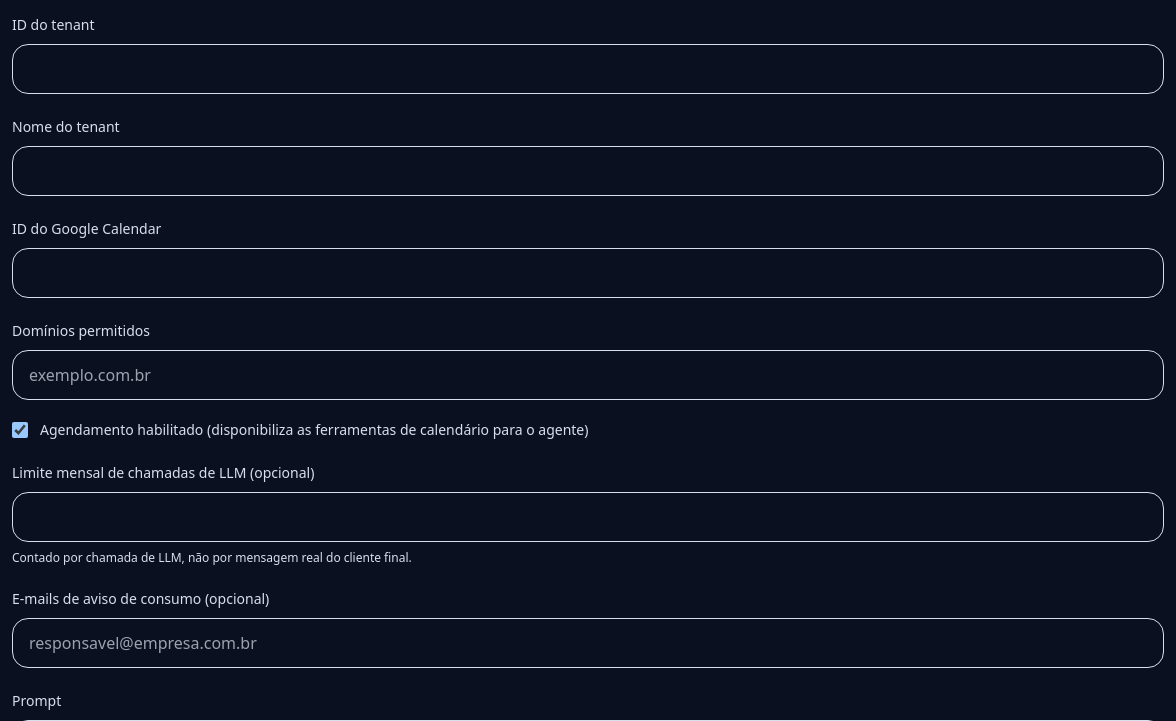
Test: TenantForm › EDI-63 — limite mensal e e-mails de notificação › shows an estimate hint next to the limit field once a value is entered
Type "1000" into the number field labelled "Limite mensal de chamadas de LLM (opcional)" at (588, 517), box [12, 492, 1164, 542]
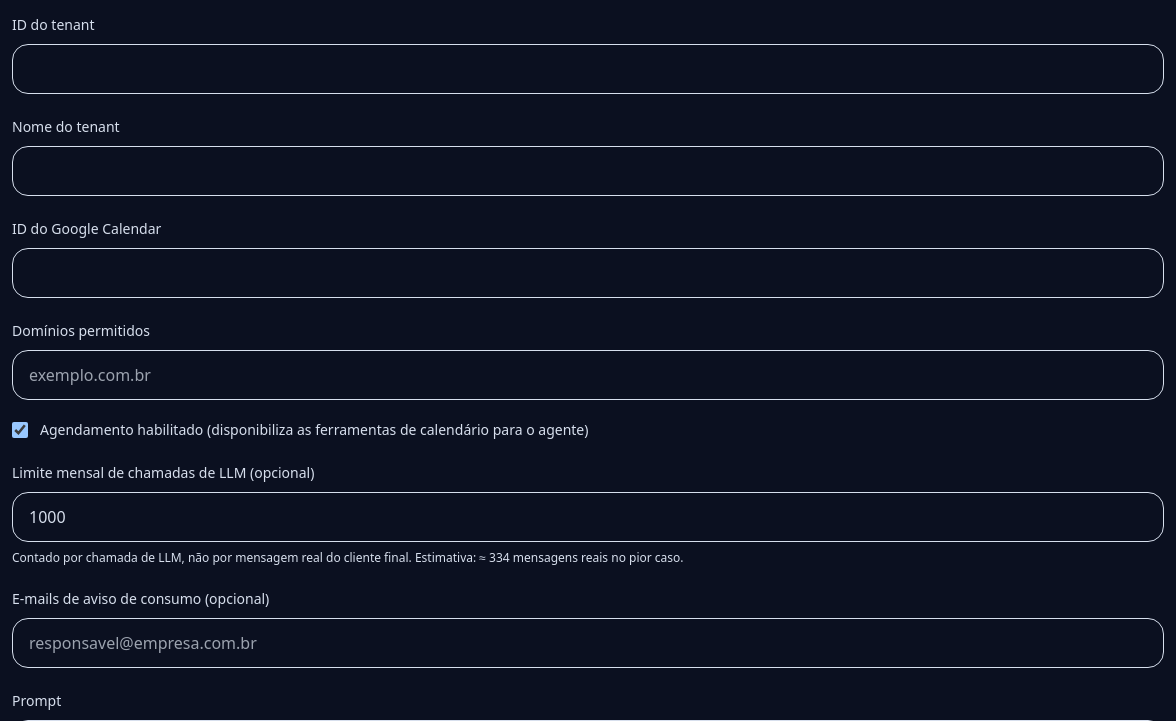
Expected: the text "≈ 334 mensagens reais" is shown, [12, 549, 684, 566]
